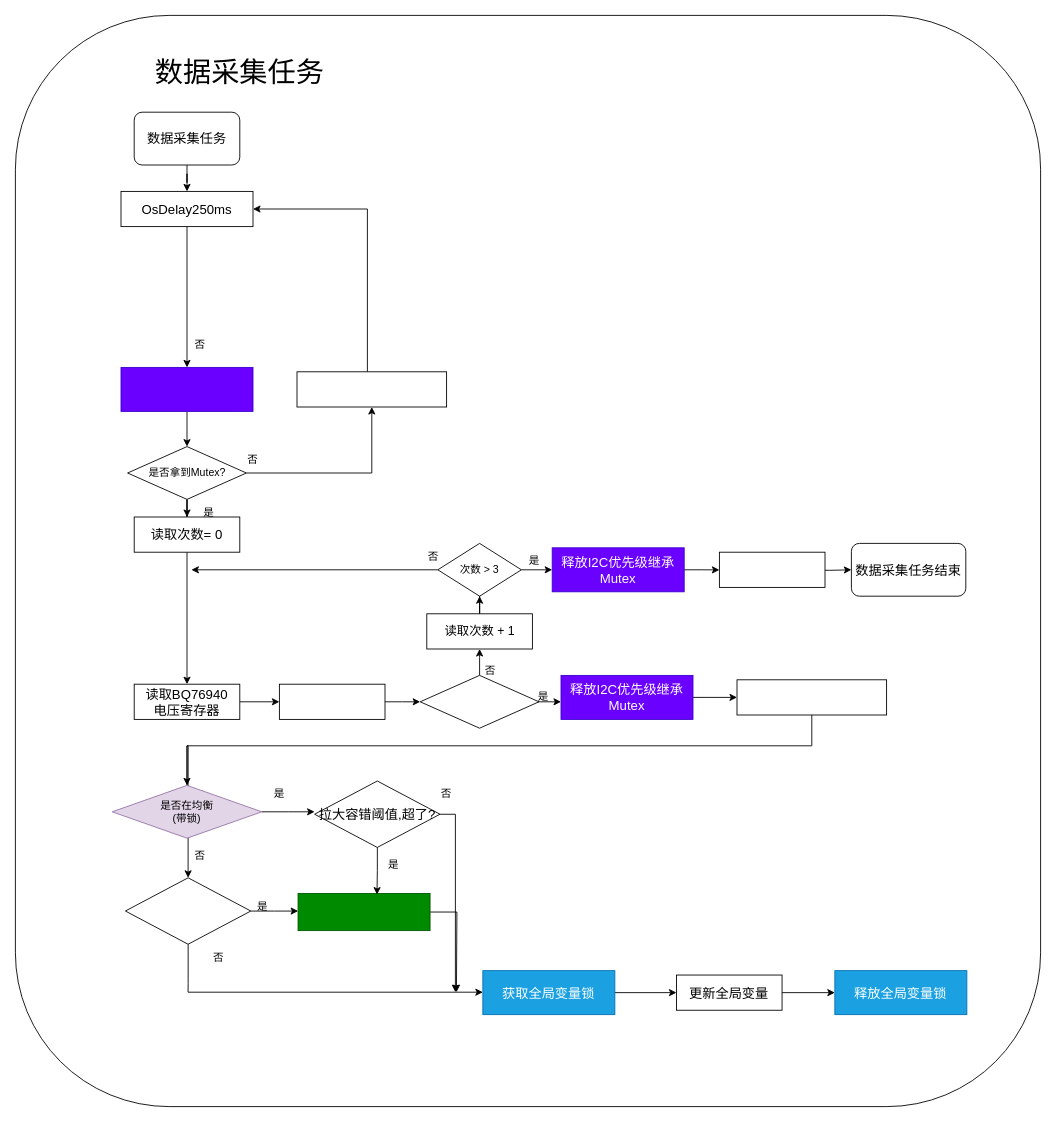
This 1056x1122 diagram has some shape labels left out. The box of each missing label's shape, as (x1, y1, x2, y2) in pixels:
ADC转电压电流温度: (736, 679, 887, 715)
CRC校验失败次数+ 1: (719, 551, 825, 587)
CRC校验正确?: (419, 675, 539, 728)
I2CMutex拿取失败次数 +1: (296, 371, 447, 407)
是否电压电流温度阈值: (125, 877, 251, 944)
申请I2C 优先级继承Mutex: (120, 367, 253, 411)
警告日志存入CAN队列: (297, 893, 430, 931)
读取BQ76940 电流/ 温度 寄存器: (279, 683, 385, 719)
